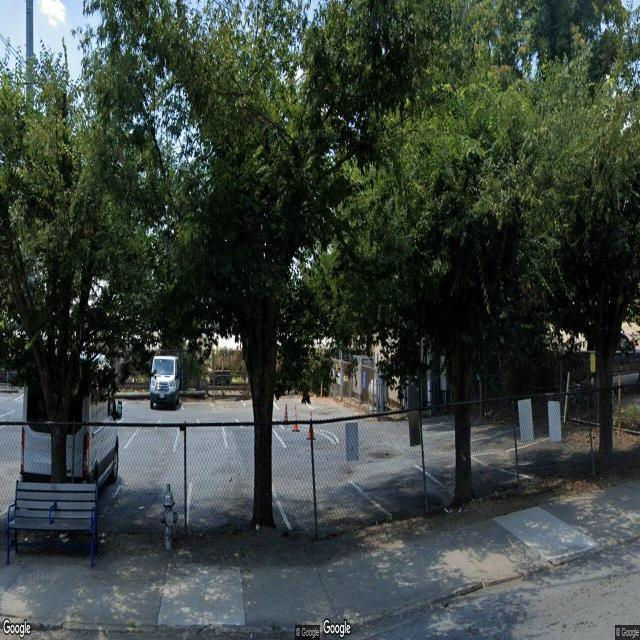seating: (6, 479, 98, 569)
